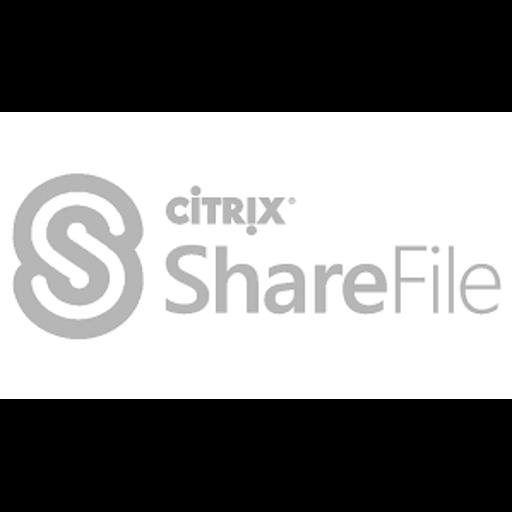Citrix ShareFile: (0, 112, 512, 399)
